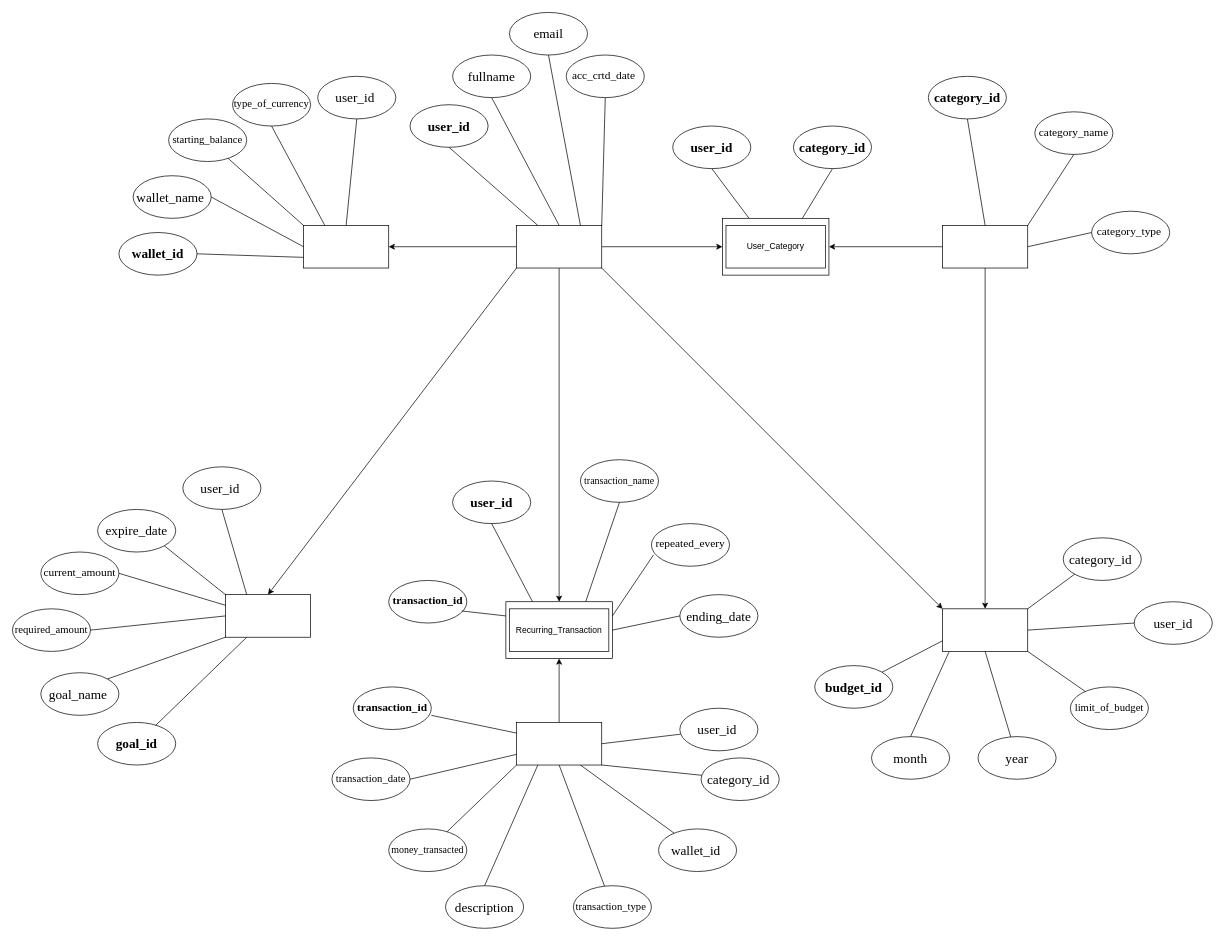
This 1225x941 diagram has some shape labels left out. Each missing label, with the box of its shape:
Budget: (942, 608, 1028, 651)
Category: (942, 225, 1028, 268)
Goal: (225, 594, 311, 637)
Transaction: (516, 722, 602, 765)
User: (516, 225, 602, 268)
Wallet: (303, 225, 389, 268)
